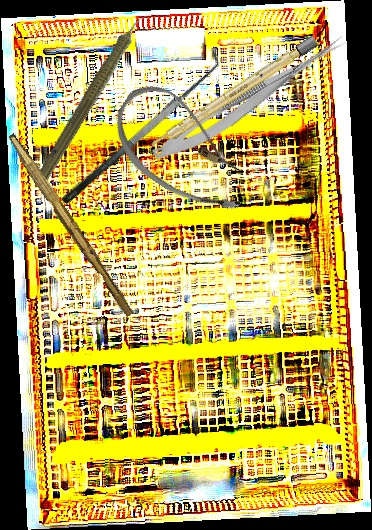Cannula: (96, 73, 272, 228)
Handpiece: (33, 2, 157, 186)
Micro Scissor: (146, 23, 352, 172)
Scalpel Handle: (1, 132, 139, 319), (143, 35, 320, 155)
Spatula Surgical: (48, 47, 231, 208)
